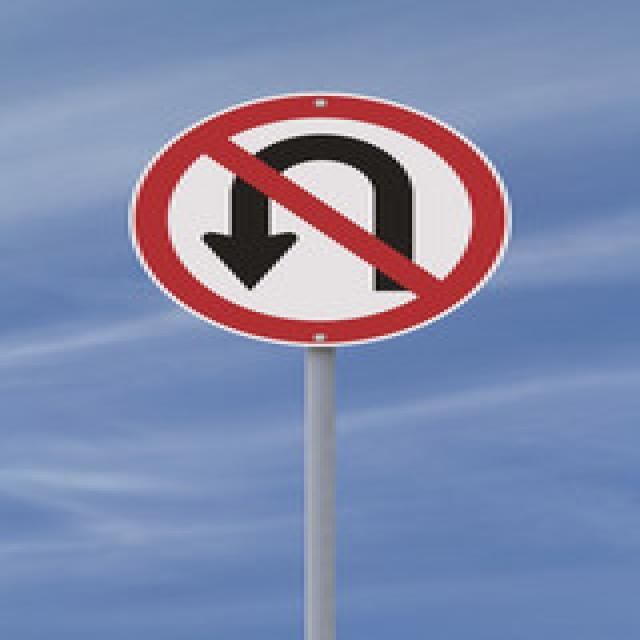no u turn: (127, 84, 522, 356)
